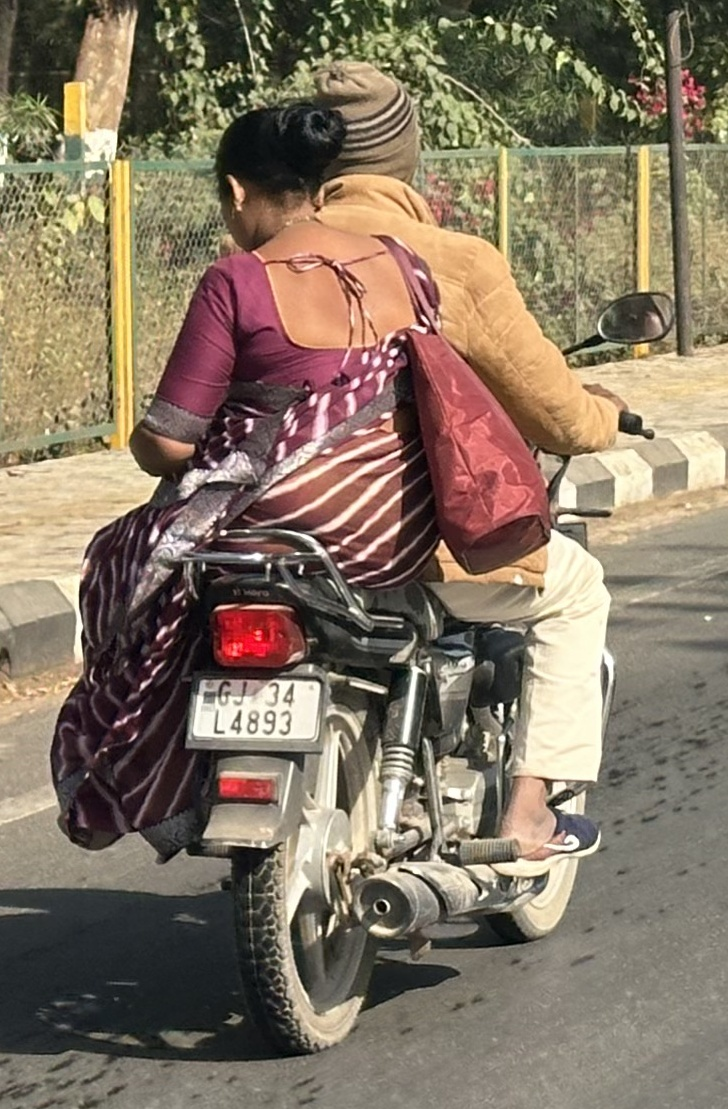BikeWithRider: (33, 44, 687, 1069)
NoHelmet: (195, 90, 361, 258), (284, 49, 440, 199)
